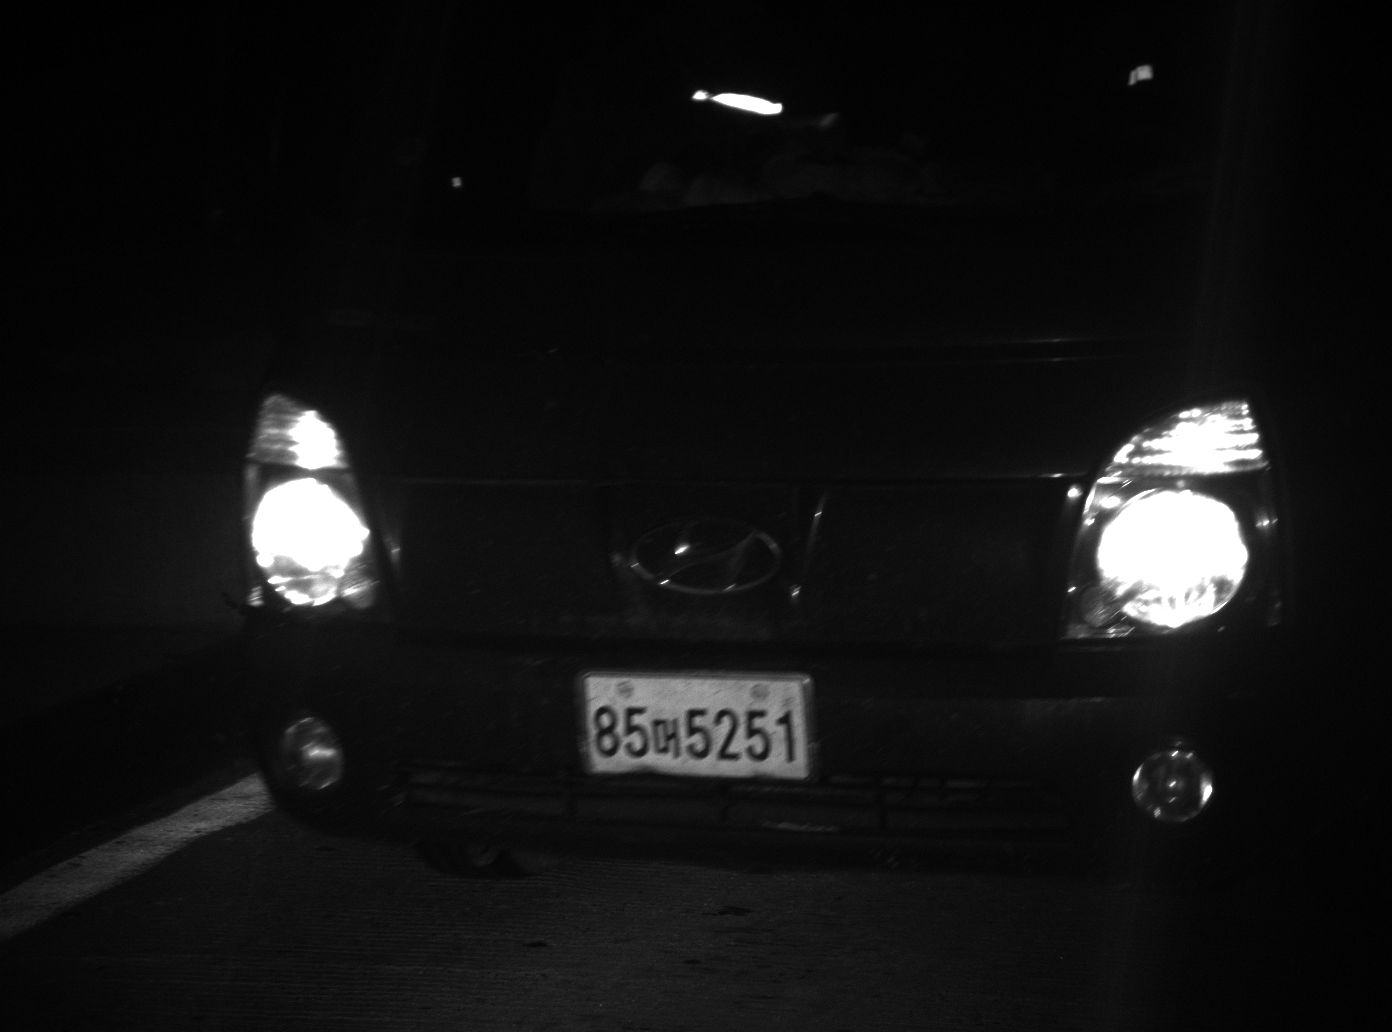car: (239, 1, 1392, 882)
plate: (577, 669, 810, 780)
